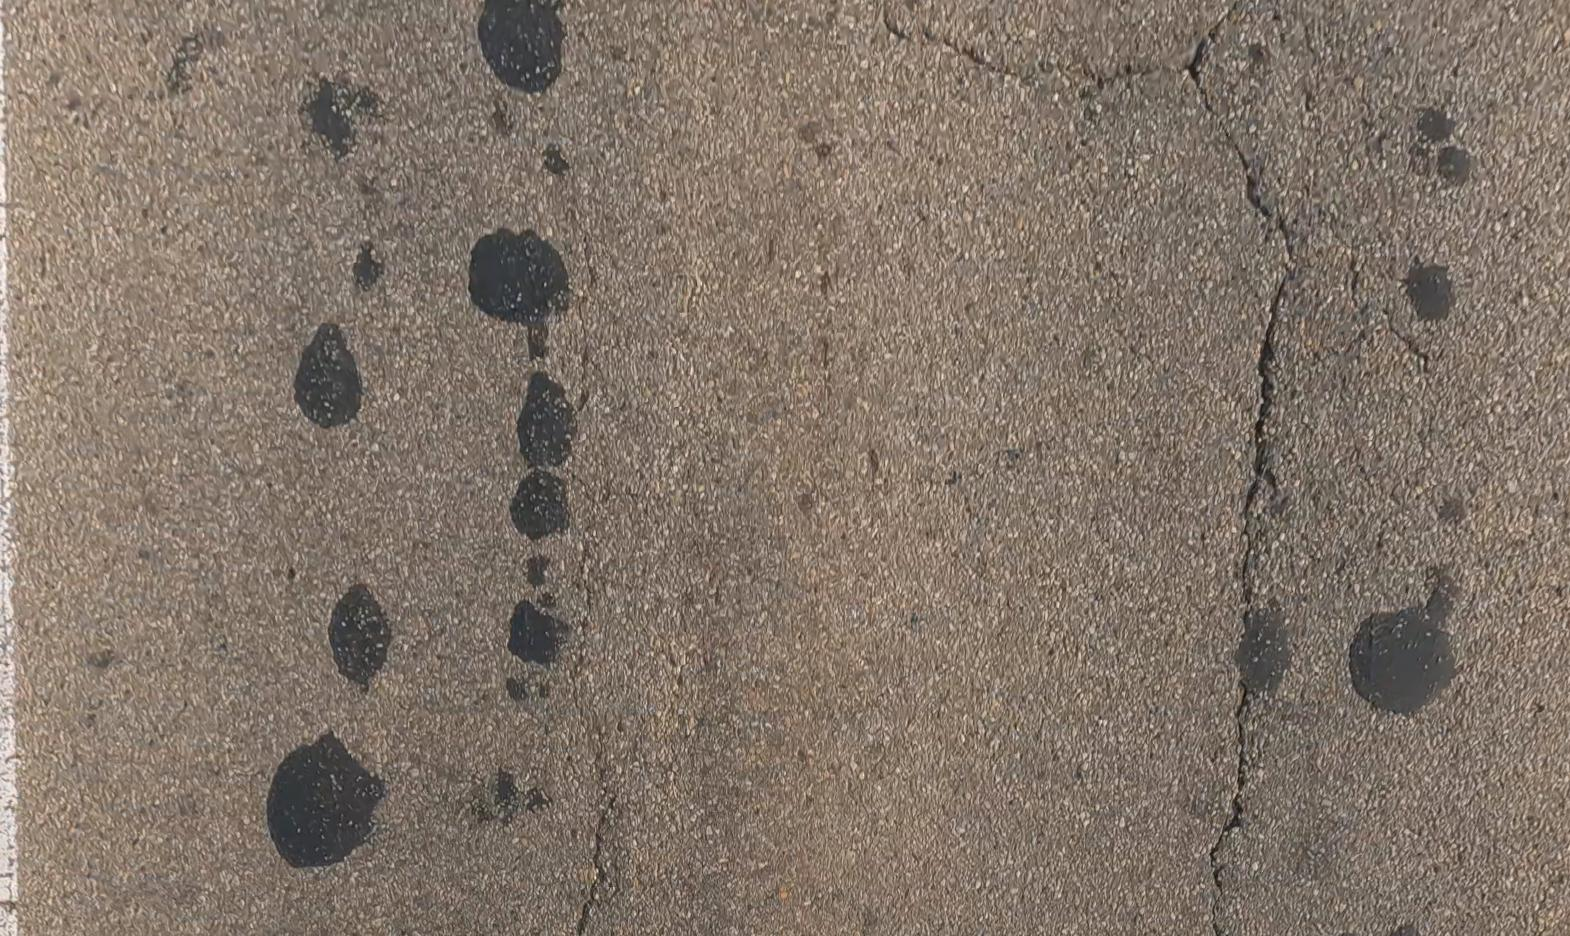pothole_patch_good: (265, 732, 384, 868), (1350, 571, 1460, 715), (468, 227, 568, 323), (477, 0, 563, 90), (292, 321, 361, 427), (326, 584, 391, 686), (301, 77, 377, 156), (517, 370, 574, 466), (1238, 604, 1294, 692), (509, 468, 568, 538), (507, 599, 569, 664), (1408, 263, 1455, 319), (1440, 143, 1476, 184), (1418, 106, 1459, 140)
